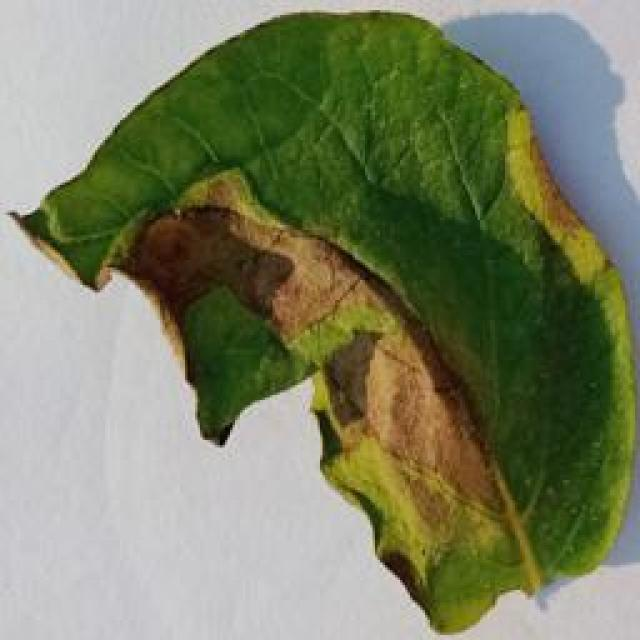Potato_Late_Blight: (10, 14, 621, 634)
